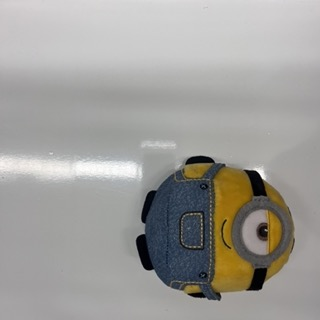minion: (136, 155, 295, 301)
